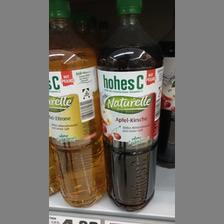Saft: (97, 0, 163, 210), (48, 0, 108, 206)
